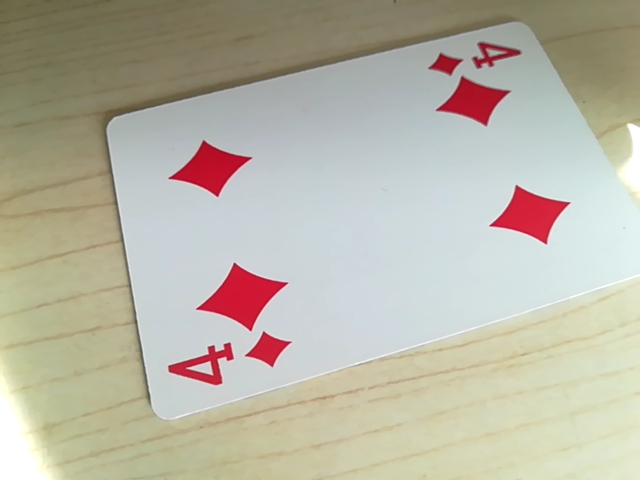fk 4: (167, 330, 289, 396), (425, 35, 526, 80)
